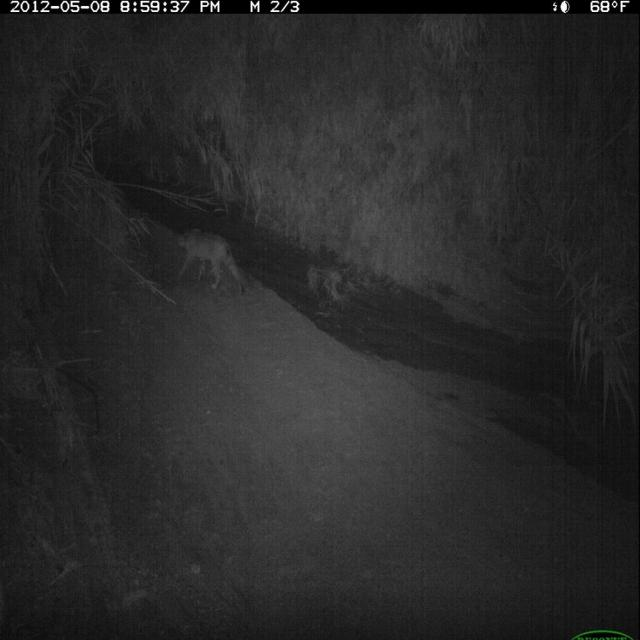bobcat: (174, 224, 253, 302)
